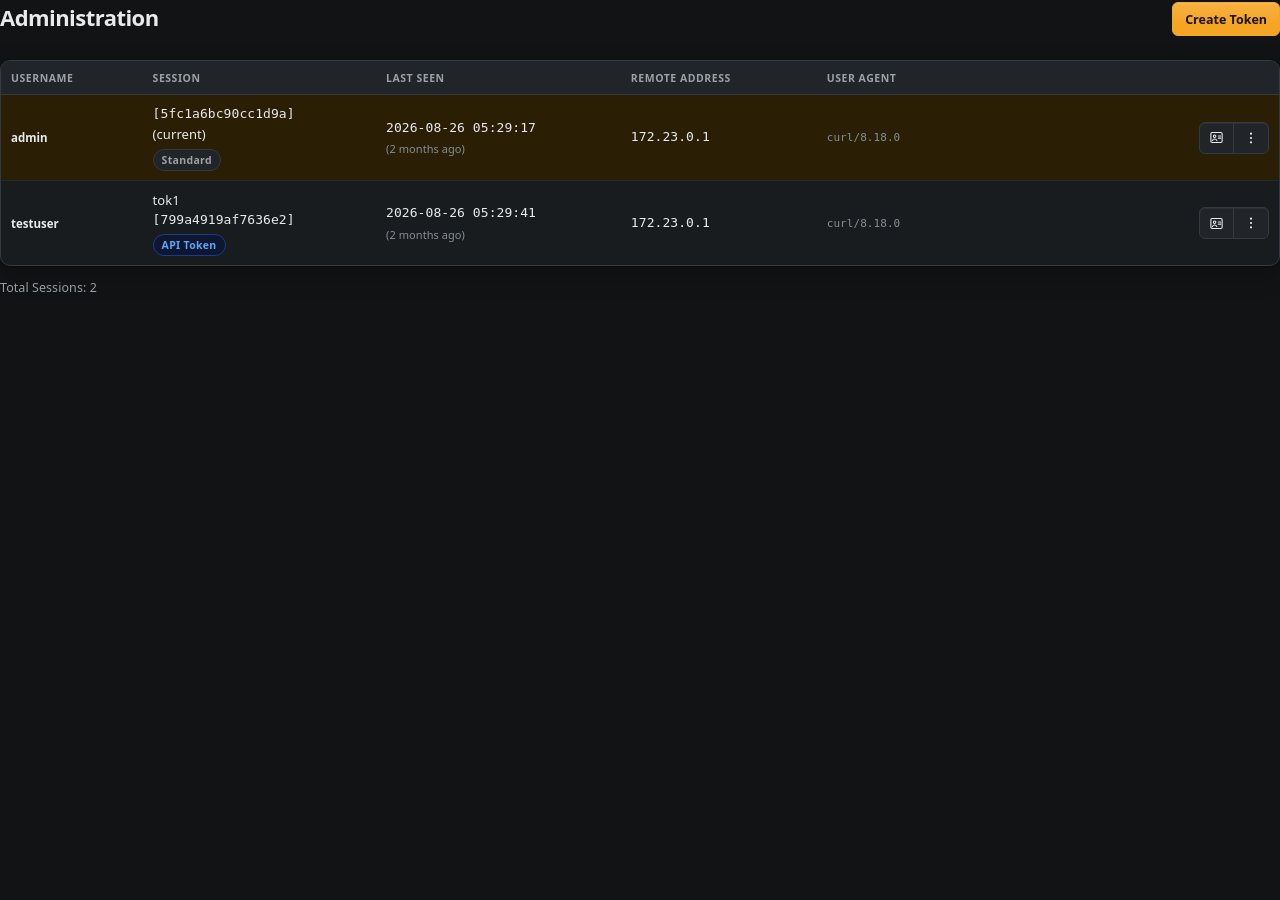
Test: Sessions: deleting a session › on deleting, the success alert is the upstream literal and comes out on the page
Click the button named "Actions for ": point(1251, 138) [1234, 122, 1268, 152]
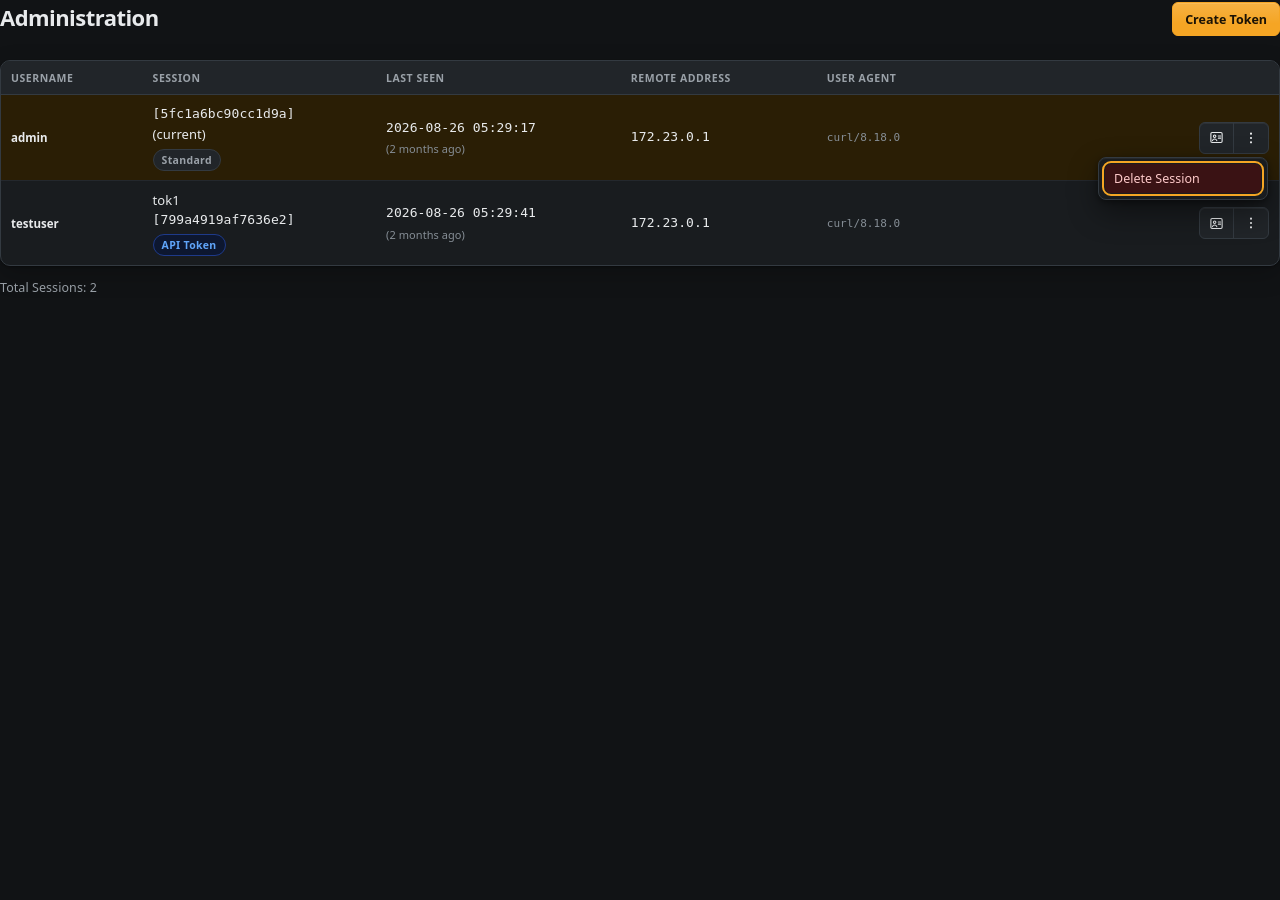
Click the menu item "Delete Session": point(1183, 178) [1105, 164, 1261, 192]
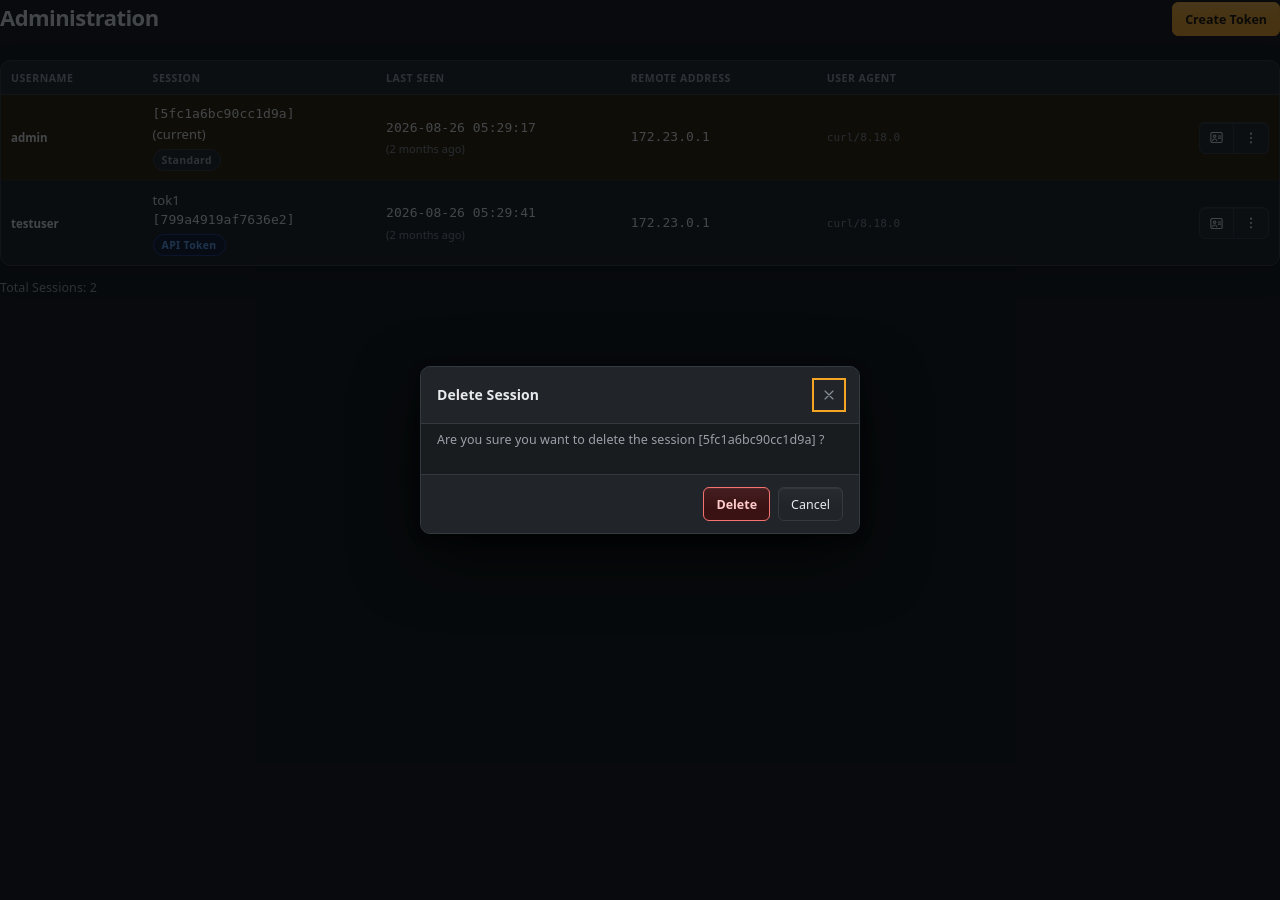
Click the button "Delete": point(737, 504) [703, 487, 770, 521]
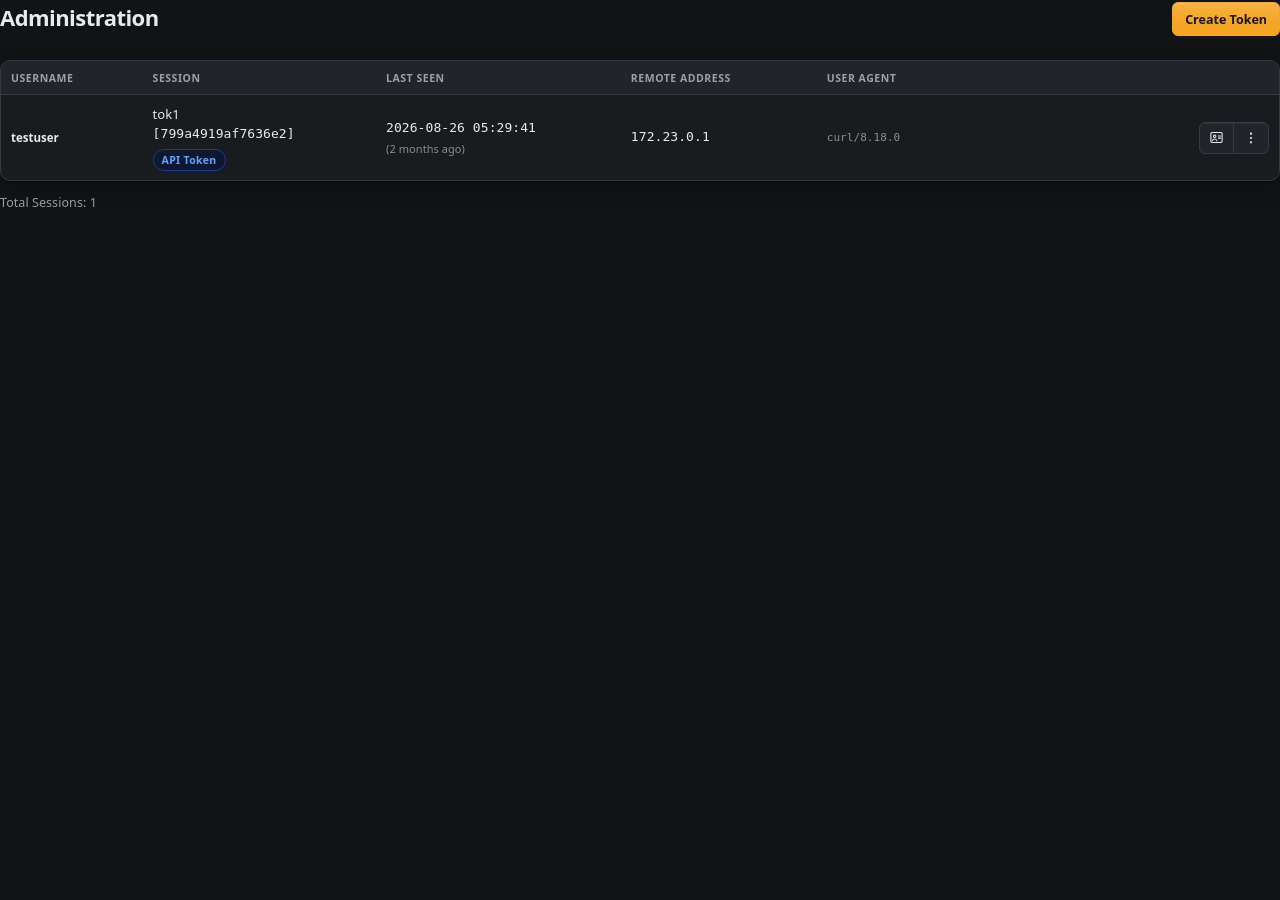
Now the text "Total Sessions: 1" is shown, box [0, 193, 97, 212]
